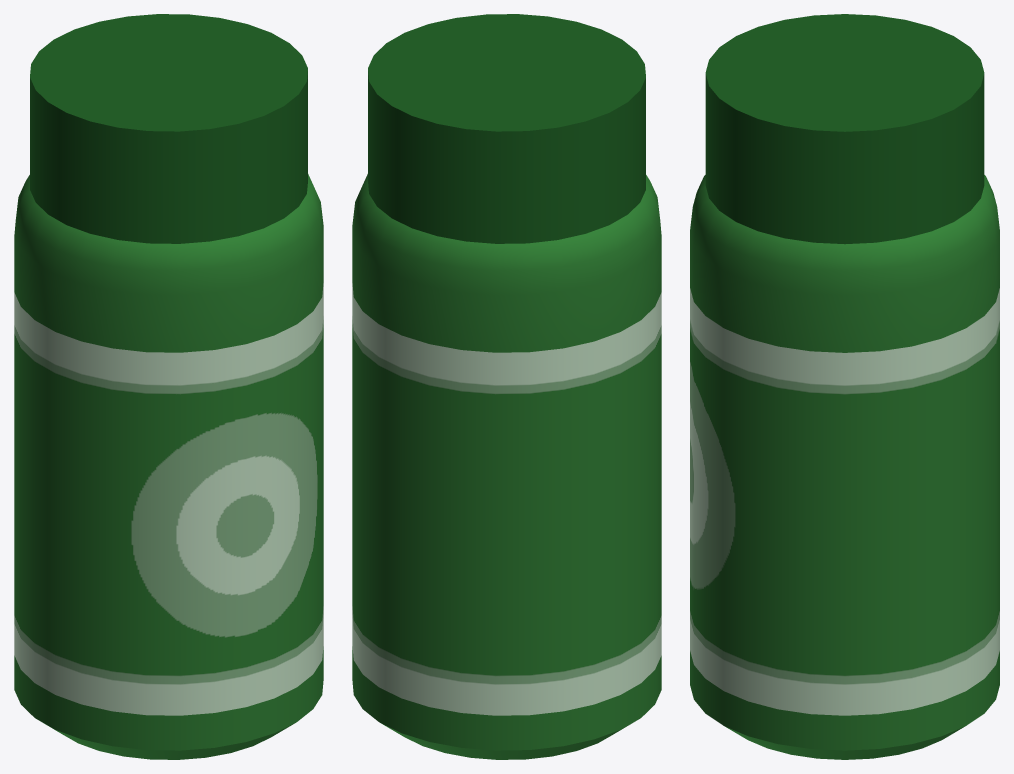
The model's file is Oregano.fbx.
3 views of the same model, side by side, from view 1: azimuth 30°, elevation 25°; view 2: azimuth 150°, elevation 25°; view 3: azimuth 270°, elevation 25° (orthographic).
Visible parts, largest first — view 1: Oregano; view 2: Oregano; view 3: Oregano.
Part boxes in pixels (box(x1,y1,x2,y2)): Oregano: box(14, 14, 323, 759); Oregano: box(352, 14, 661, 759); Oregano: box(690, 14, 999, 759).
Size of the model in its own units: 0.05 by 0.113 by 0.05.
3 materials, 1 textured.
